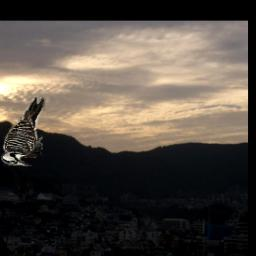Woodpecker: (2, 97, 46, 167)
